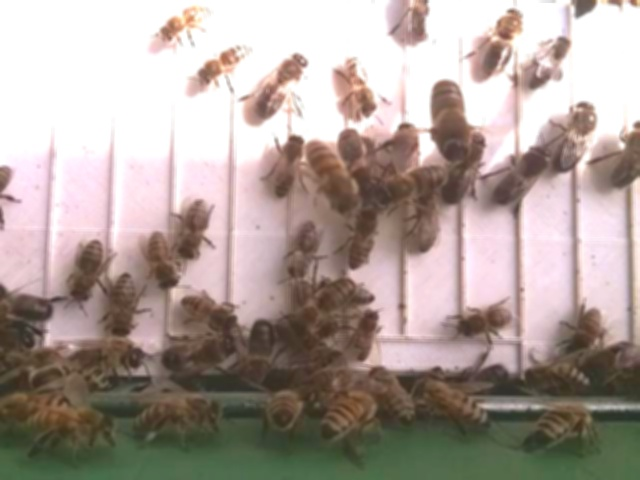Drone: (289, 273, 359, 334), (252, 49, 310, 121), (488, 144, 551, 207), (429, 77, 474, 165), (439, 130, 488, 206), (479, 5, 526, 81), (553, 98, 600, 173), (156, 332, 238, 374), (374, 161, 450, 206), (239, 315, 282, 391), (608, 117, 640, 193)
Worker: (306, 136, 358, 212), (66, 237, 108, 306), (178, 289, 238, 335), (142, 228, 183, 292), (342, 52, 380, 120), (198, 40, 254, 86), (178, 193, 214, 264), (286, 216, 324, 282), (528, 32, 570, 91), (107, 268, 142, 338), (344, 208, 382, 271), (454, 301, 515, 340), (271, 132, 305, 201), (159, 3, 215, 44), (567, 301, 606, 359), (407, 194, 444, 253), (352, 304, 384, 364)
